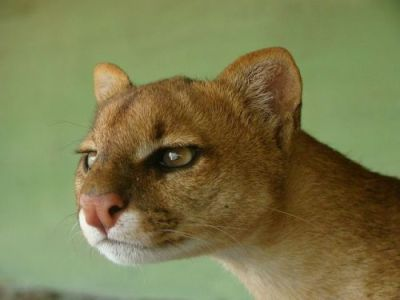Jaguarundi: (68, 41, 391, 289)
